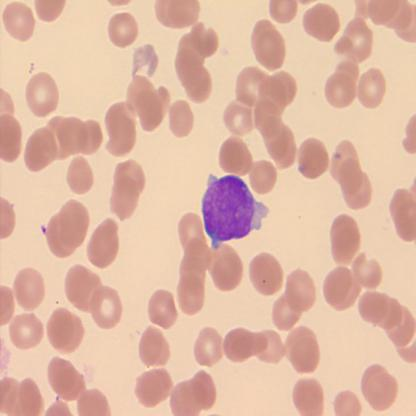Blast: (200, 171, 271, 252)
